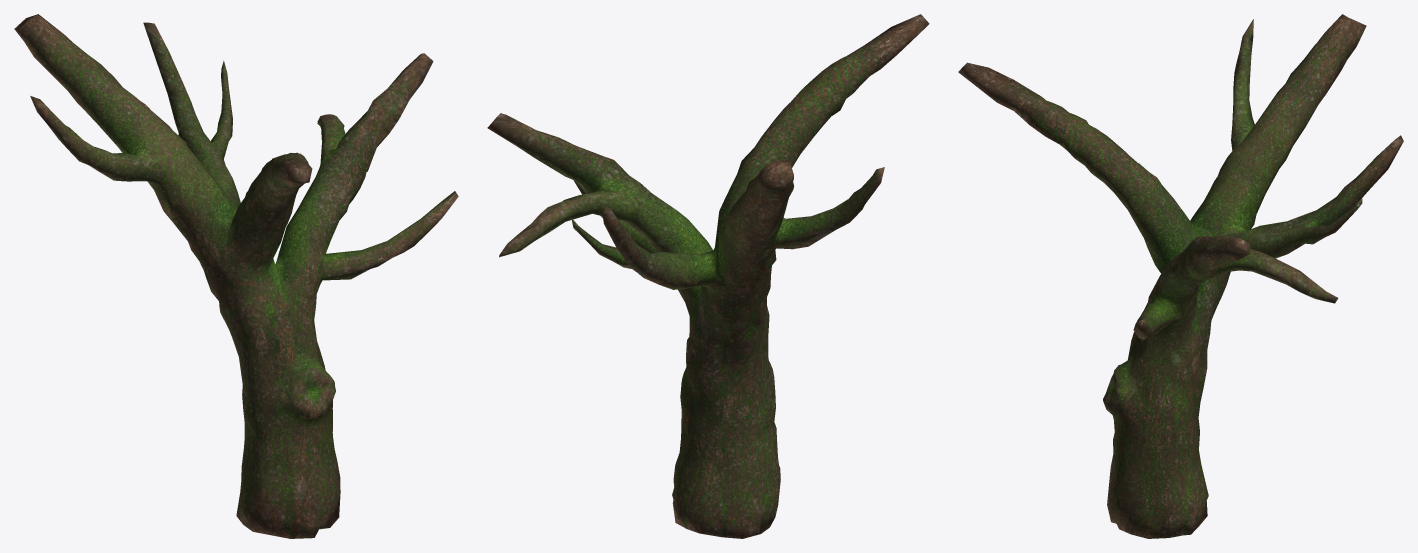
File: arbol seco.fbx
3 renders of one model, left to right at view 1: azimuth 30°, elevation 25°; view 2: azimuth 150°, elevation 25°; view 3: azimuth 270°, elevation 25°, orthographic. The views are drawn at different scales.
Visible parts, largest first — view 1: WhisperingWillowTrees; view 2: WhisperingWillowTrees; view 3: WhisperingWillowTrees.
Boxes of the visible parts, box(x1,y1,x2,y2) form: WhisperingWillowTrees: box(14, 14, 458, 538); WhisperingWillowTrees: box(487, 14, 929, 538); WhisperingWillowTrees: box(958, 14, 1403, 538).
Bounding box in the file's own units: 801 × 899 × 837.
1 material, 1 textured.
